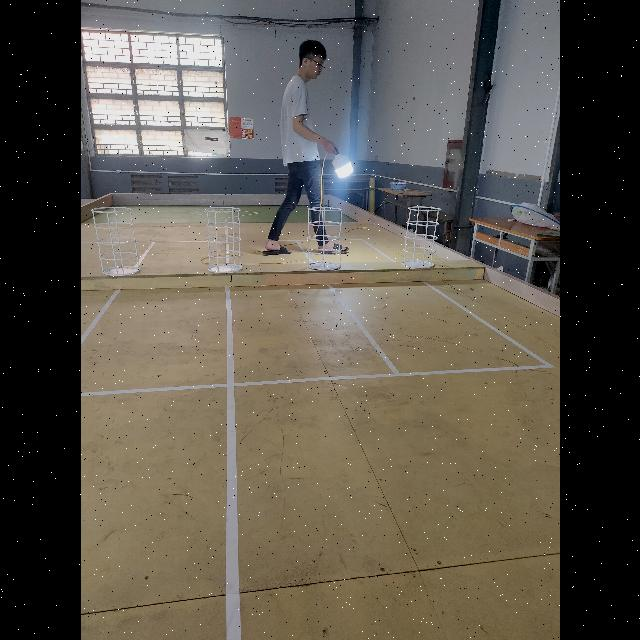S: (90, 206, 138, 276), (204, 206, 242, 274), (401, 206, 442, 268), (306, 207, 342, 271)
